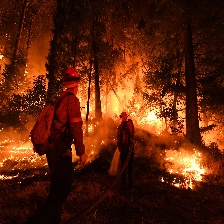fire: (114, 89, 179, 133), (79, 84, 113, 155), (160, 142, 209, 189), (1, 126, 42, 182)
